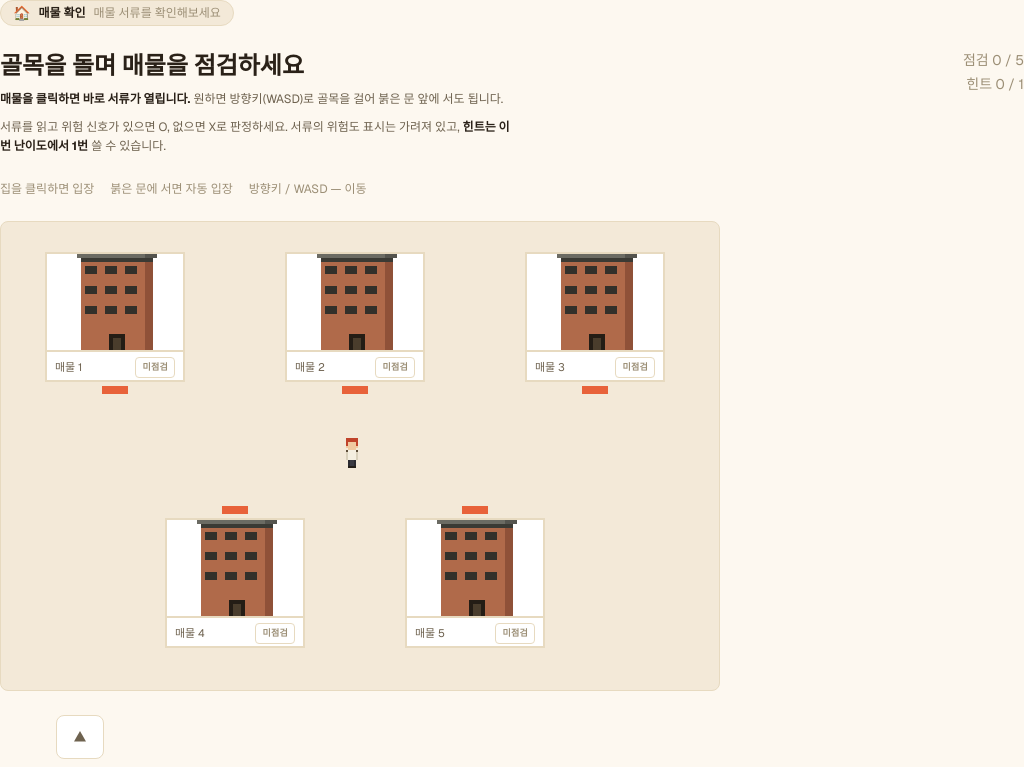
Test: MapBoard › 남은 힌트가 없으면 미공개 집의 힌트 버튼이 비활성화되고 상태는 안 보인다
Click the button "매물 2 미점검".
click(355, 316)  # box [285,252,425,382]
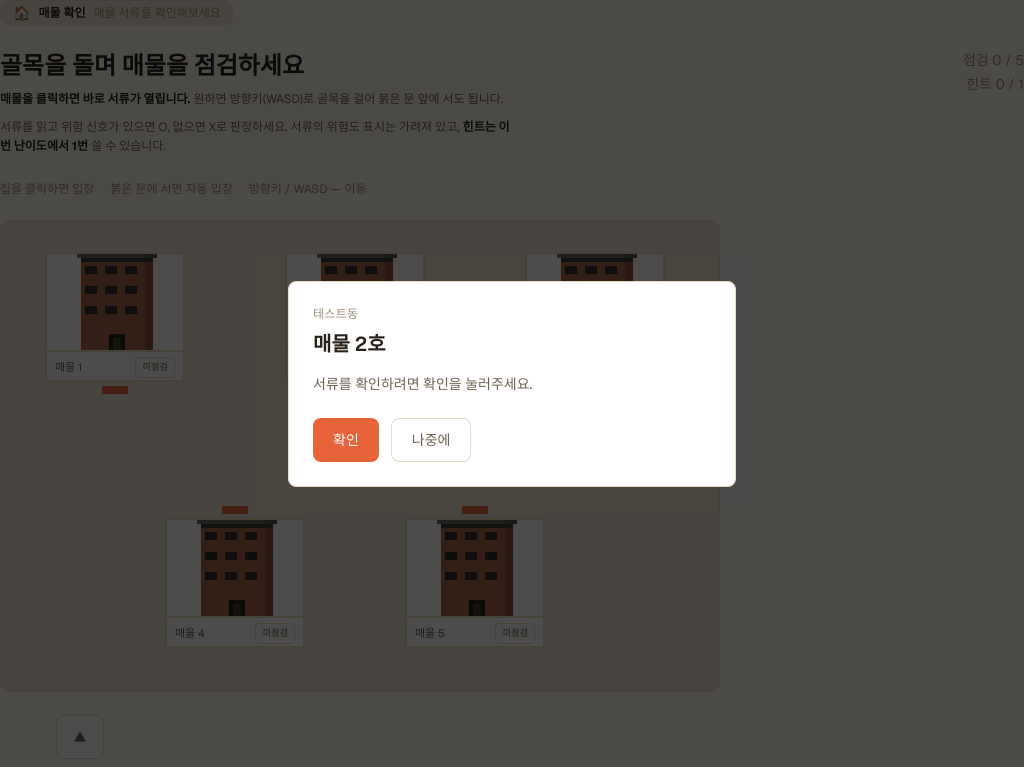
Click the button "확인".
click(346, 440)  # box [313,418,379,462]
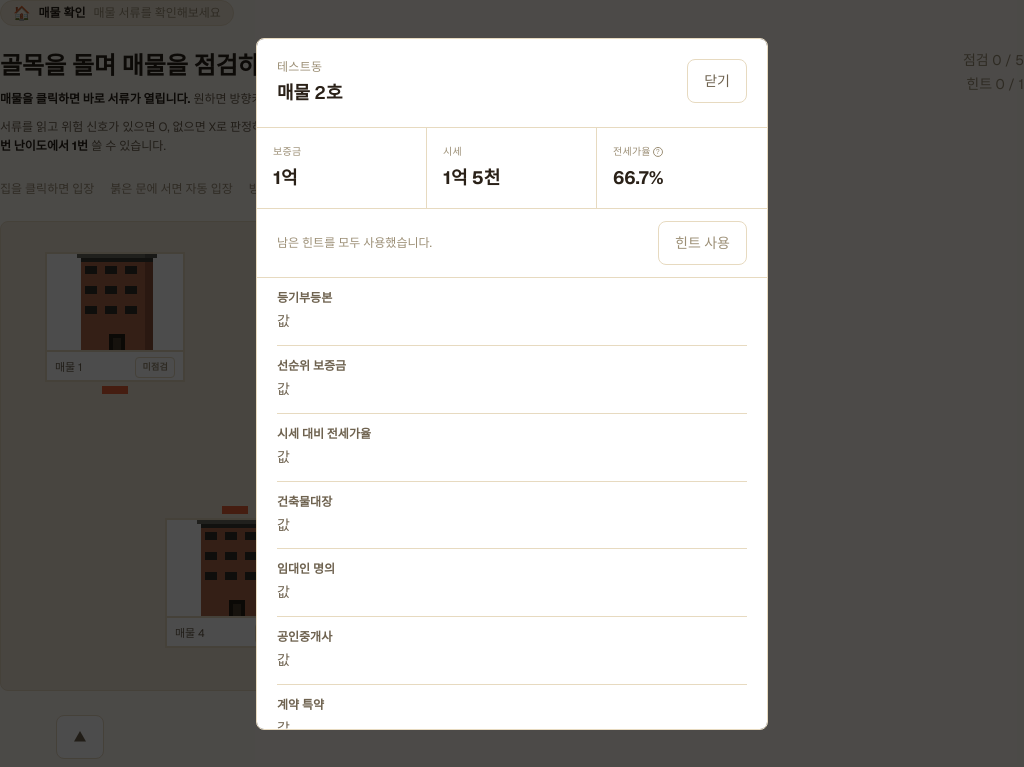
Result: the button "힌트 사용" is disabled at [658,221,747,265]
